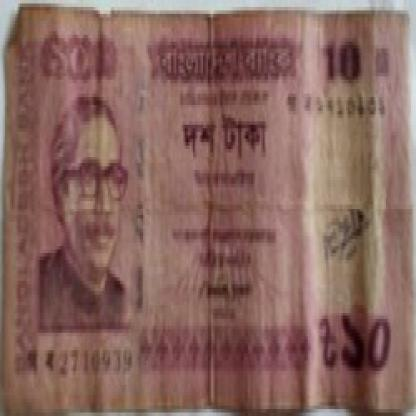Ten Taka: (338, 305, 396, 378), (42, 27, 100, 80), (315, 31, 366, 87)
